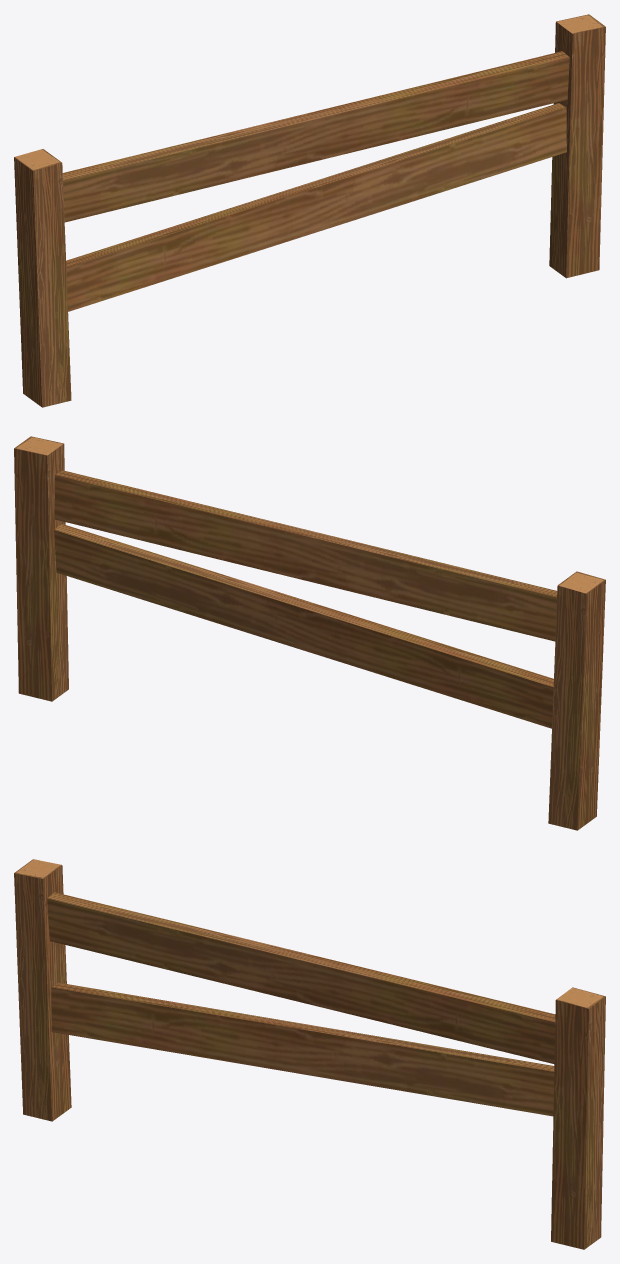
The model's file is Prop_WoodenFence_Single.glb.
3 renders of one model, top to bottom at view 1: azimuth 30°, elevation 25°; view 2: azimuth 150°, elevation 25°; view 3: azimuth 330°, elevation 25°, orthographic.
Parts seen in each view (by area): view 1: Prop_WoodenFence_Single; view 2: Prop_WoodenFence_Single; view 3: Prop_WoodenFence_Single.
Part boxes in pixels (x1,y1,x2,y2): Prop_WoodenFence_Single: [14, 14, 605, 407]; Prop_WoodenFence_Single: [14, 436, 605, 830]; Prop_WoodenFence_Single: [14, 859, 605, 1249].
Size of the model in its own units: 2.06 by 0.8381 by 0.1198.
Materials: 1 (1 with a texture image).
